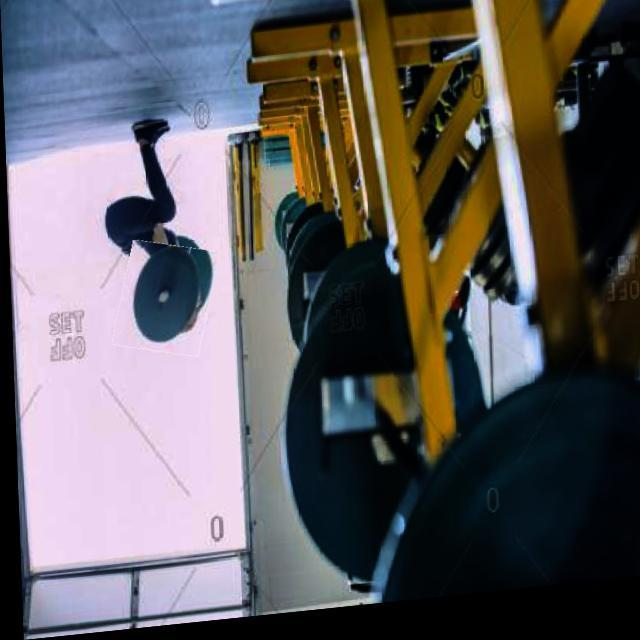barbell: (113, 242, 215, 364)
